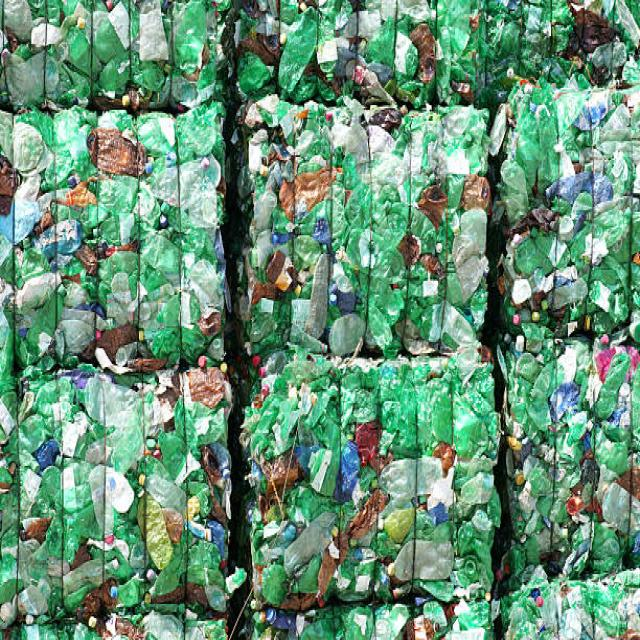trash: (17, 9, 627, 616)
